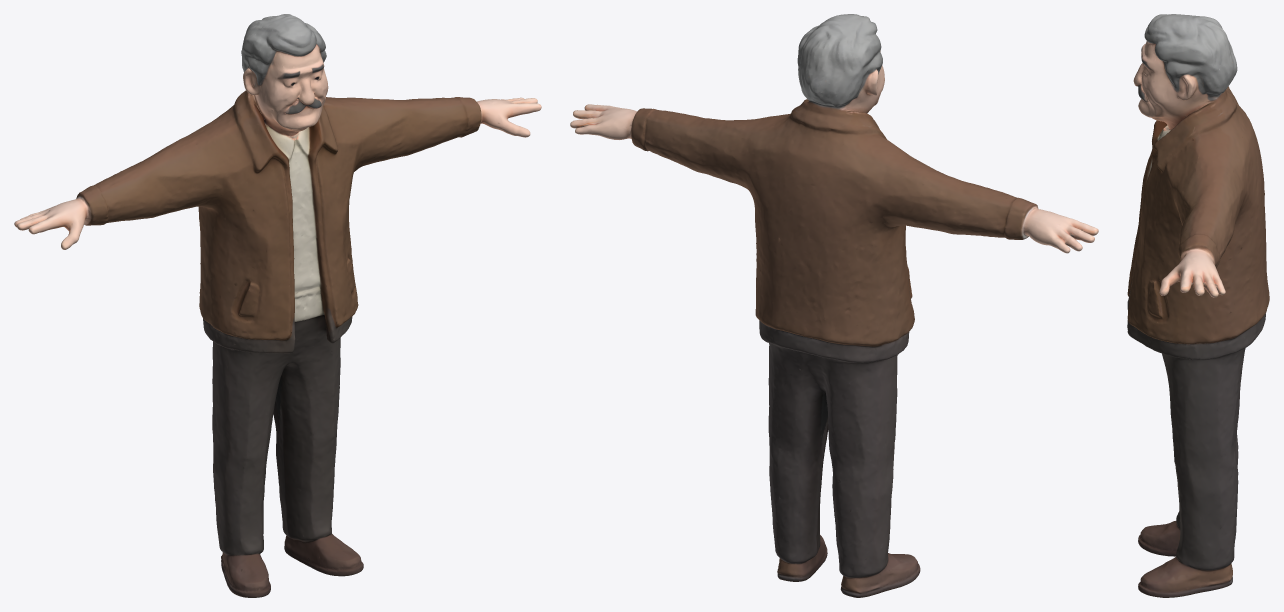
Rendered from Gentleman_Figure_in_L_1116133817_texture.fbx.
3 renders of one model, left to right at view 1: azimuth 30°, elevation 25°; view 2: azimuth 150°, elevation 25°; view 3: azimuth 270°, elevation 25°, orthographic.
Visible parts, largest first — view 1: input; view 2: input; view 3: input.
Boxes of the visible parts, <box> form: input: <box>14,14,541,597</box>; input: <box>570,14,1098,597</box>; input: <box>1127,14,1269,597</box>.
Size of the model in its own units: 187 by 190 by 44.46.
1 material, 1 textured.
